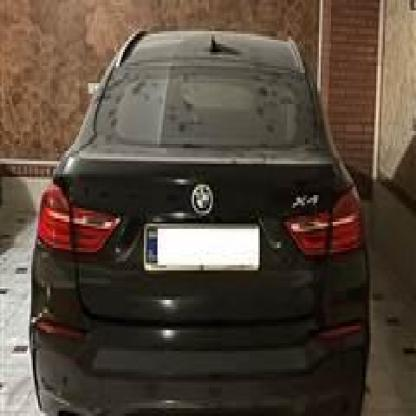Car: (26, 10, 369, 416)
